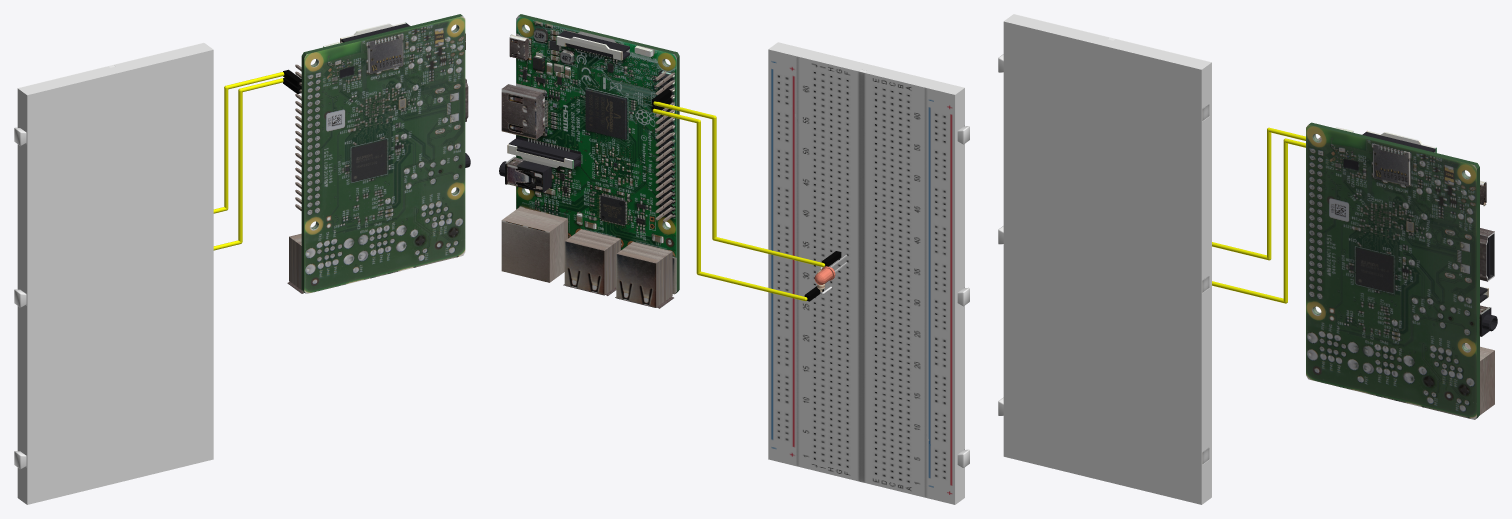
File: exp20.glb
3 views of the same model, side by side, from view 1: azimuth 30°, elevation 25°; view 2: azimuth 150°, elevation 25°; view 3: azimuth 330°, elevation 25° (orthographic). The views are drawn at different scales.
Parts seen in each view (by area): view 1: HP, Raspberry_Pi_3_final, Cylinder__1__1, Cylinder__1_, LP; view 2: LP, Raspberry_Pi_3_final, HP, Cylinder__1__1, Cylinder__1_, Cylinder__2_, Cylinder__2__1; view 3: HP, Raspberry_Pi_3_final, LP, Cylinder__1__1, Cylinder__1_.
Boxes of the visible parts, box(x1,y1,x2,y2) form: HP: box(14, 43, 213, 504); Raspberry_Pi_3_final: box(287, 14, 470, 293); Cylinder__1__1: box(238, 91, 242, 242); Cylinder__1_: box(224, 88, 228, 208); LP: box(17, 42, 203, 497); LP: box(768, 49, 955, 504); Raspberry_Pi_3_final: box(499, 14, 679, 308); HP: box(769, 42, 969, 504); Cylinder__1__1: box(696, 122, 700, 273); Cylinder__1_: box(712, 118, 716, 238); Cylinder__2_: box(713, 237, 822, 266); Cylinder__2__1: box(698, 271, 804, 300); HP: box(998, 14, 1211, 504); Raspberry_Pi_3_final: box(1306, 122, 1497, 419); LP: box(1014, 14, 1211, 496); Cylinder__1__1: box(1283, 141, 1287, 301); Cylinder__1_: box(1267, 130, 1271, 258).
Size of the model in its own units: 1.26 by 1.08 by 0.1818.
Materials: 21 (2 with a texture image).
